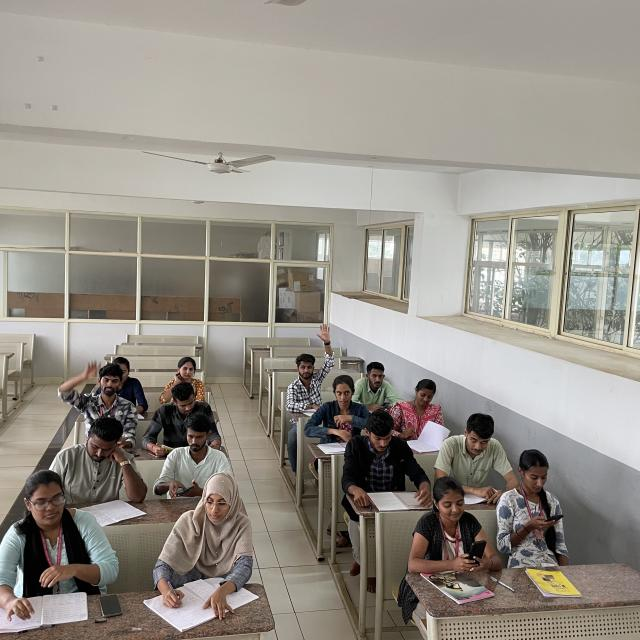Hand Rising: (286, 315, 336, 402)
Reading: (338, 410, 431, 509), (52, 421, 151, 511), (142, 383, 225, 457), (389, 376, 450, 444)
Using Phone: (495, 447, 577, 560), (405, 473, 494, 577), (154, 411, 232, 498), (350, 356, 400, 412)
Writing: (153, 471, 255, 611)
